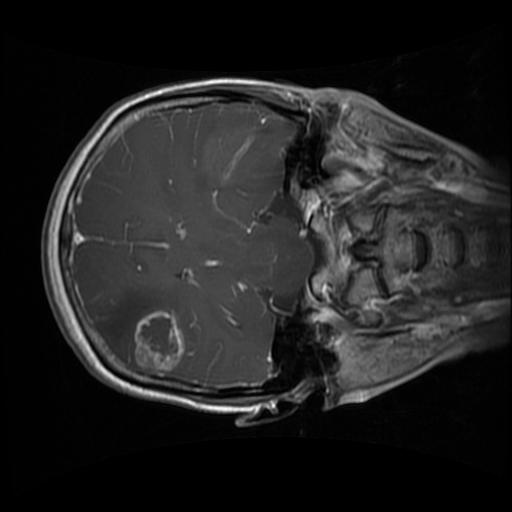glioma: (95, 290, 183, 371)
